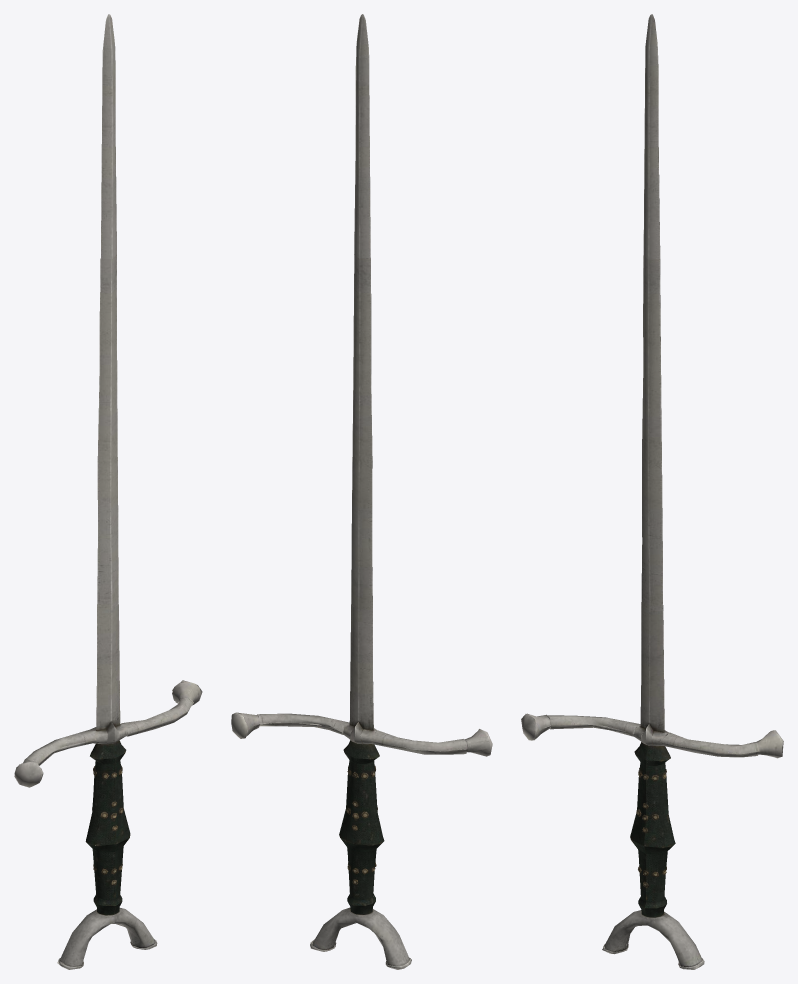
The model's file is antique_estoc.glb.
3 renders of one model, left to right at view 1: azimuth 30°, elevation 25°; view 2: azimuth 150°, elevation 25°; view 3: azimuth 330°, elevation 25°, orthographic.
Parts seen in each view (by area): view 1: antique_estoc; view 2: antique_estoc; view 3: antique_estoc.
Part boxes in pixels (x1=…): antique_estoc: x1=14, y1=14, x2=202, y2=969; antique_estoc: x1=231, y1=14, x2=492, y2=969; antique_estoc: x1=521, y1=14, x2=783, y2=969.
Size of the model in its own units: 0.3717 by 1.49 by 0.149.
Materials: 1 (1 with a texture image).
